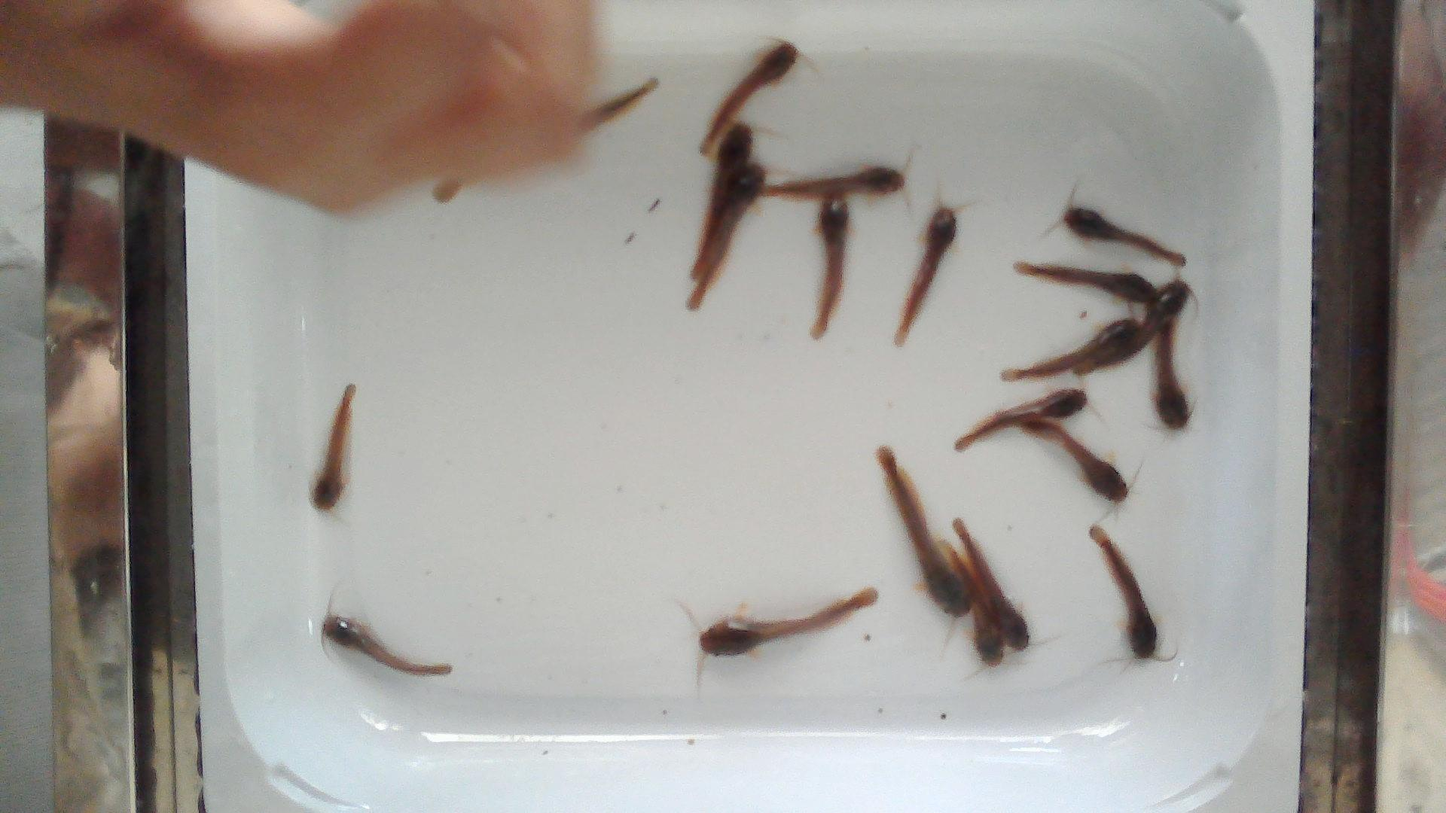lele: (437, 80, 661, 206), (875, 445, 972, 617), (683, 164, 767, 308), (700, 587, 877, 653), (700, 41, 799, 157), (1072, 279, 1190, 369), (954, 519, 1033, 653), (689, 121, 754, 278), (1009, 420, 1129, 503), (999, 317, 1142, 380), (1090, 526, 1158, 658), (895, 202, 956, 346), (940, 538, 1006, 670), (958, 387, 1087, 453), (322, 614, 452, 675), (1063, 206, 1185, 266), (1017, 262, 1156, 303), (810, 197, 849, 339), (312, 384, 355, 510), (763, 166, 904, 199), (1154, 311, 1192, 431)
